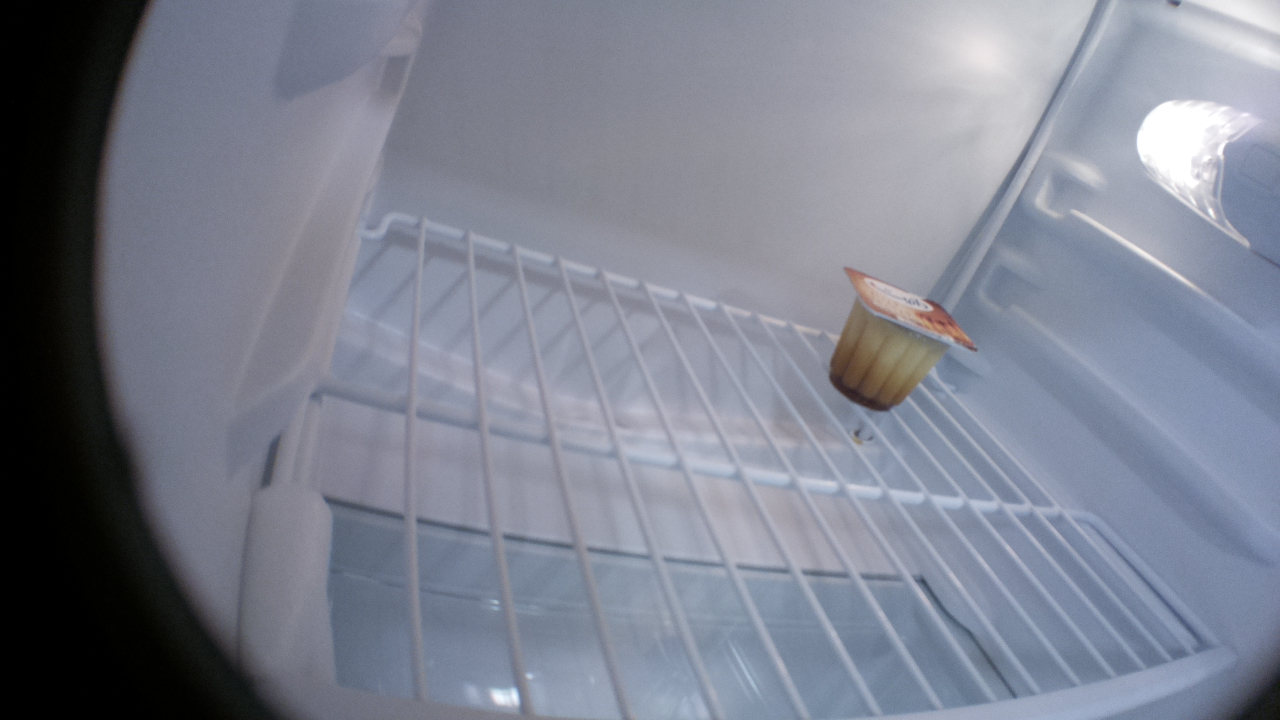caramel: (827, 263, 977, 411)
